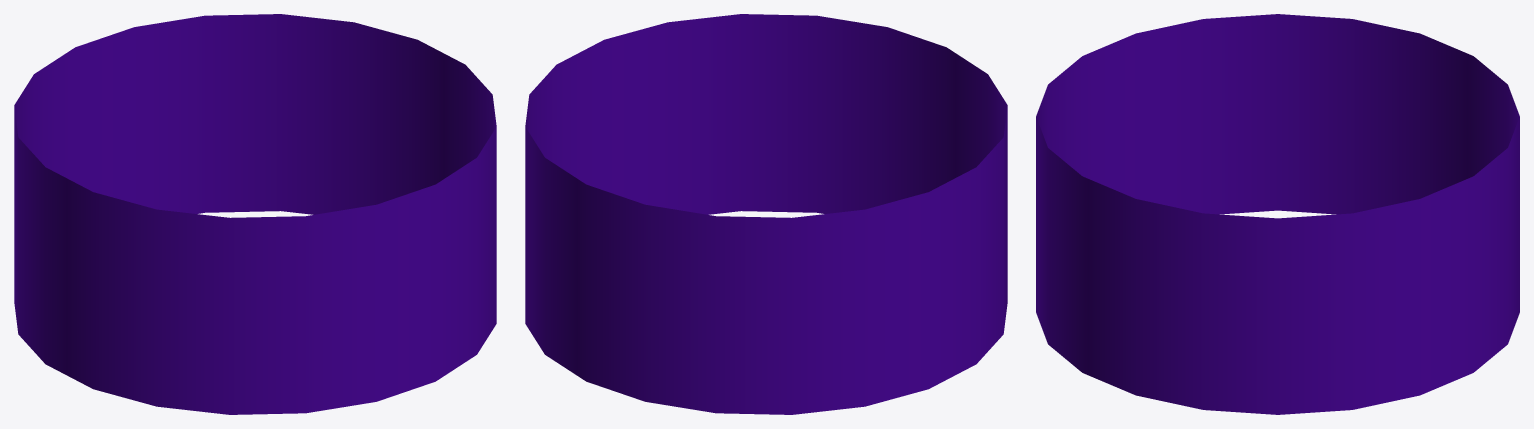
The model's file is Candlestick_Ironworks.fbx.
3 views of the same model, side by side, from view 1: azimuth 30°, elevation 25°; view 2: azimuth 150°, elevation 25°; view 3: azimuth 270°, elevation 25° (orthographic).
Visible parts, largest first — view 1: Candlestick_Ironworks; view 2: Candlestick_Ironworks; view 3: Candlestick_Ironworks.
Part boxes in pixels (left/top/right/bottom): Candlestick_Ironworks: left=14, top=14, right=496, bottom=414; Candlestick_Ironworks: left=525, top=14, right=1007, bottom=414; Candlestick_Ironworks: left=1036, top=14, right=1519, bottom=414.
Bounding box in the file's own units: 139 × 62.55 × 139.
